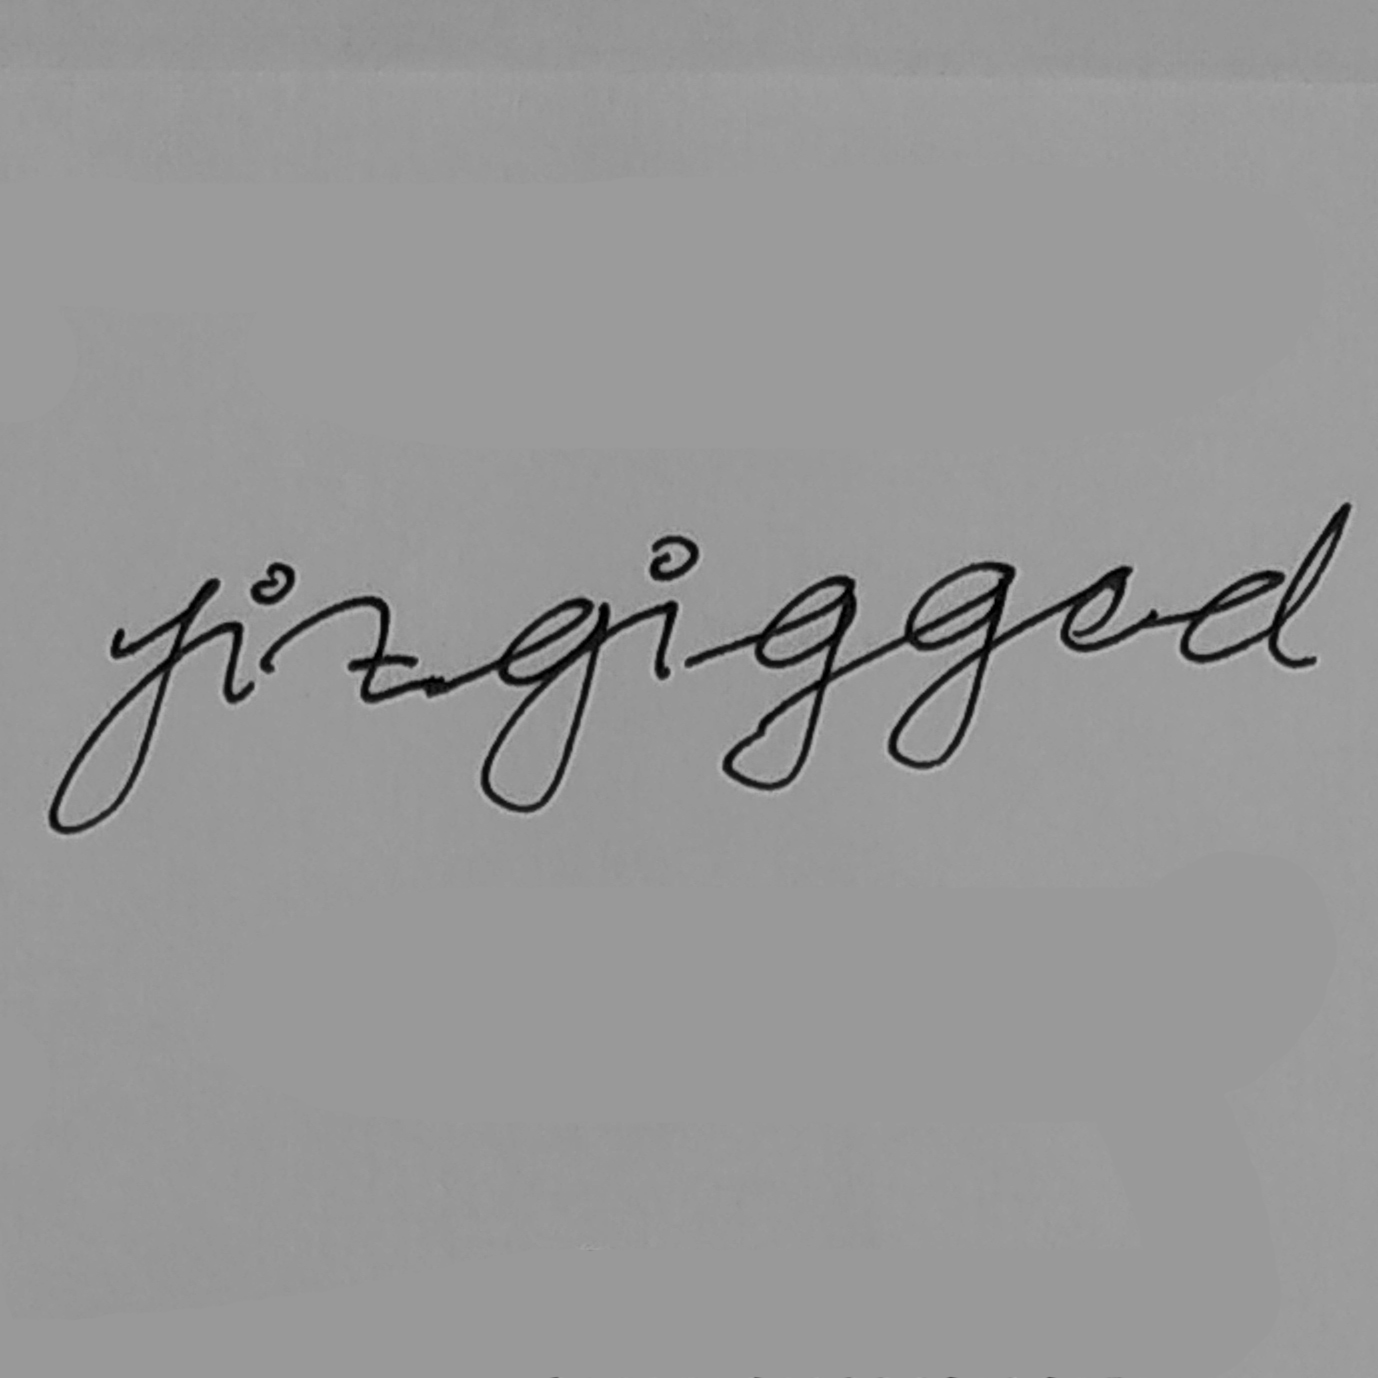d: (1175, 500, 1354, 673)
e: (1056, 563, 1138, 655)
f: (45, 573, 223, 838)
g: (718, 570, 859, 792), (474, 593, 611, 815), (885, 559, 1018, 772)
i: (218, 560, 299, 705), (645, 531, 702, 683)
z: (324, 592, 421, 708)
